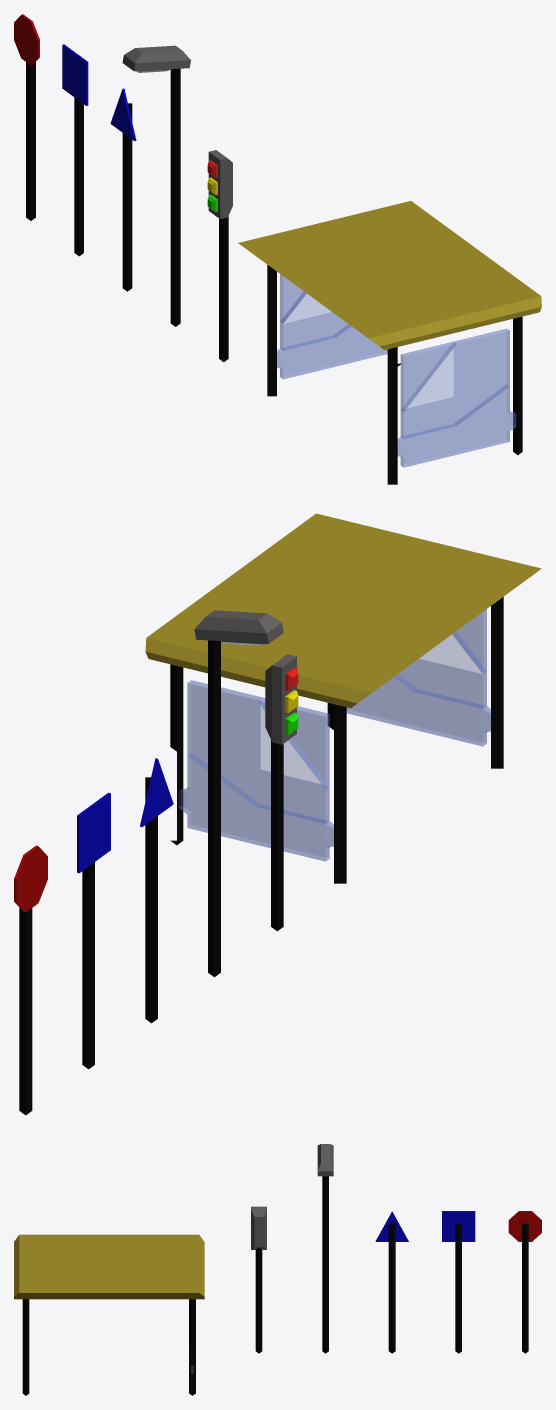
The model's file is sight_tiles.fbx.
3 views of the same model, one above another, from view 1: azimuth 30°, elevation 25°; view 2: azimuth 150°, elevation 25°; view 3: azimuth 270°, elevation 25° (orthographic). The views are drawn at different scales.
Parts seen in each view (by area): view 1: Cube.006, Cube.011, Cube.010, Cube.007, Cube.012, Cube.008, Cube.015, Cube.014, Cube.009, Cube.005, StreetLight, StreetLight.001 (+18 smaller); view 2: Cube.012, Cube.014, Cube.011, Cube.010, Cube.007, Cube.015, Cube.008, Cube.006, Cube.005, StreetLight.001, StreetLight, Cube.013 (+18 smaller); view 3: Cube.011, Cube.007, Cube.012, Cube.010, BlueSign.003, Cube.005, RedSign.001, StreetLight, StreetLight.002, StreetLight.001, BlueSign.006, BlueSign.2 (+10 smaller).
Part boxes in pixels (<box>): Cube.006: <box>400,328,509,438</box>; Cube.011: <box>390,248,541,331</box>; Cube.010: <box>303,269,461,349</box>; Cube.007: <box>325,201,475,269</box>; Cube.012: <box>238,222,389,290</box>; Cube.008: <box>397,384,516,467</box>; Cube.015: <box>277,324,387,379</box>; Cube.014: <box>280,292,351,350</box>; Cube.009: <box>400,341,456,411</box>; Cube.005: <box>207,150,232,239</box>; StreetLight: <box>170,187,180,326</box>; StreetLight.001: <box>122,45,190,72</box>; Cube.012: <box>250,603,456,708</box>; Cube.014: <box>187,680,329,823</box>; Cube.011: <box>231,513,428,602</box>; Cube.010: <box>344,541,541,630</box>; Cube.007: <box>145,575,343,683</box>; Cube.015: <box>179,753,333,861</box>; Cube.008: <box>346,675,490,746</box>; Cube.006: <box>394,632,486,708</box>; Cube.005: <box>265,654,298,771</box>; StreetLight.001: <box>194,610,283,645</box>; StreetLight: <box>208,795,220,977</box>; Cube.013: <box>257,697,329,788</box>; Cube.011: <box>14,1263,109,1299</box>; Cube.007: <box>109,1263,204,1299</box>; Cube.012: <box>109,1234,204,1268</box>; Cube.010: <box>14,1234,109,1268</box>; BlueSign.003: <box>442,1211,475,1241</box>; Cube.005: <box>251,1206,266,1268</box>; RedSign.001: <box>508,1211,541,1241</box>; StreetLight: <box>322,1257,328,1353</box>; StreetLight.002: <box>322,1176,328,1259</box>; StreetLight.001: <box>317,1144,333,1176</box>; BlueSign.006: <box>388,1223,395,1289</box>; BlueSign.2: <box>388,1287,395,1353</box>.
Size of the model in its own units: 229 by 324 by 793.
